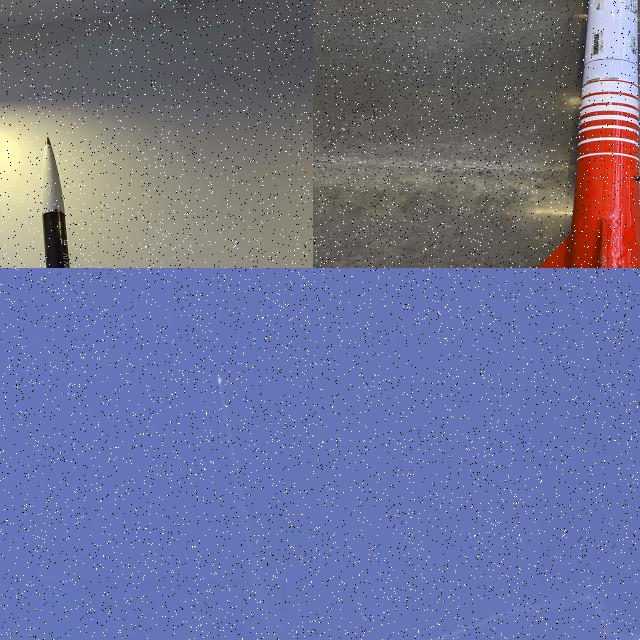Rocket: (537, 0, 640, 268), (41, 136, 70, 268), (218, 374, 221, 384)
